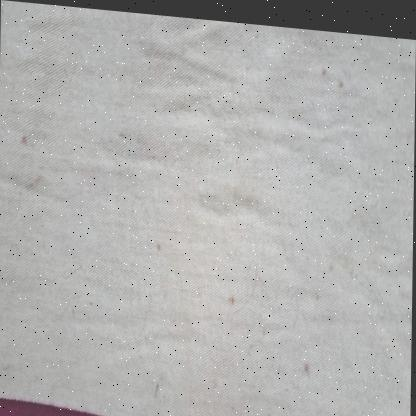spot: (21, 163, 44, 197), (113, 114, 129, 139), (17, 129, 33, 150), (154, 229, 164, 254), (227, 285, 235, 302), (336, 68, 345, 83), (303, 353, 310, 369), (313, 282, 321, 295), (320, 57, 327, 71), (328, 252, 334, 267), (155, 376, 159, 396)
